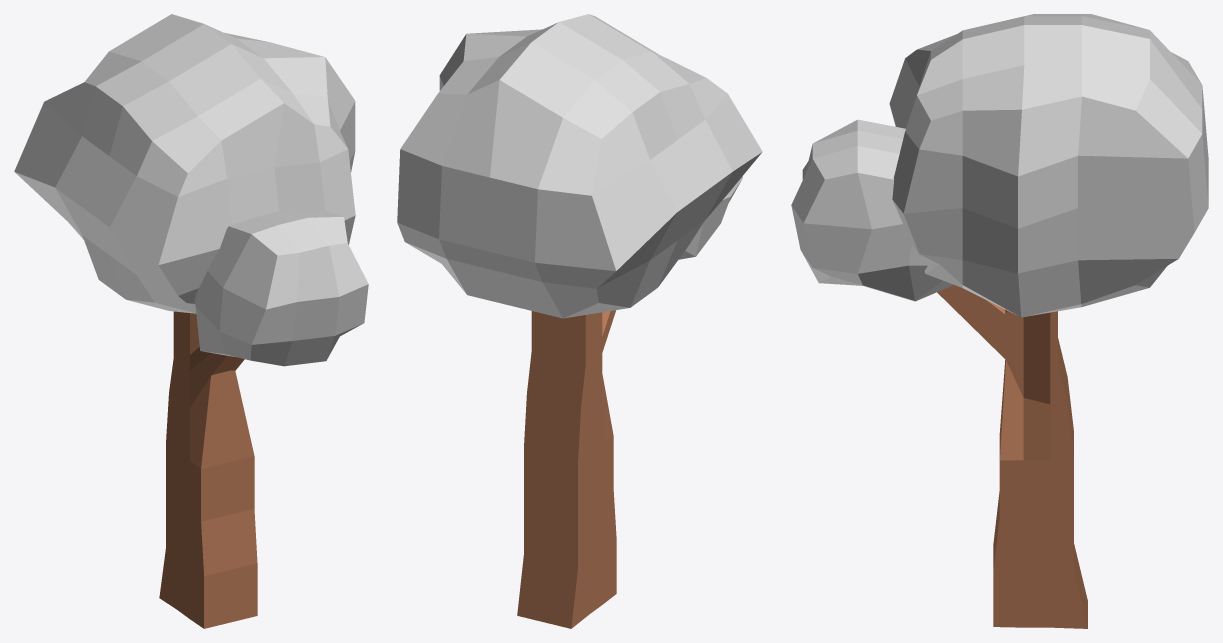
File: tree.glb
The picture shows the model from 3 angles, left to right: view 1: azimuth 30°, elevation 25°; view 2: azimuth 150°, elevation 25°; view 3: azimuth 270°, elevation 25°; orthographic projection. The views are drawn at different scales.
Visible parts, largest first — view 1: leaf small; view 2: leaf small; view 3: leaf small.
Boxes of the visible parts, x1,y1,x2,y2 form: leaf small: (14, 14, 368, 628); leaf small: (397, 14, 762, 628); leaf small: (791, 14, 1208, 628).
Size of the model in its own units: 6.67 by 13.5 by 8.54.
Materials: 2 (1 with a texture image).
